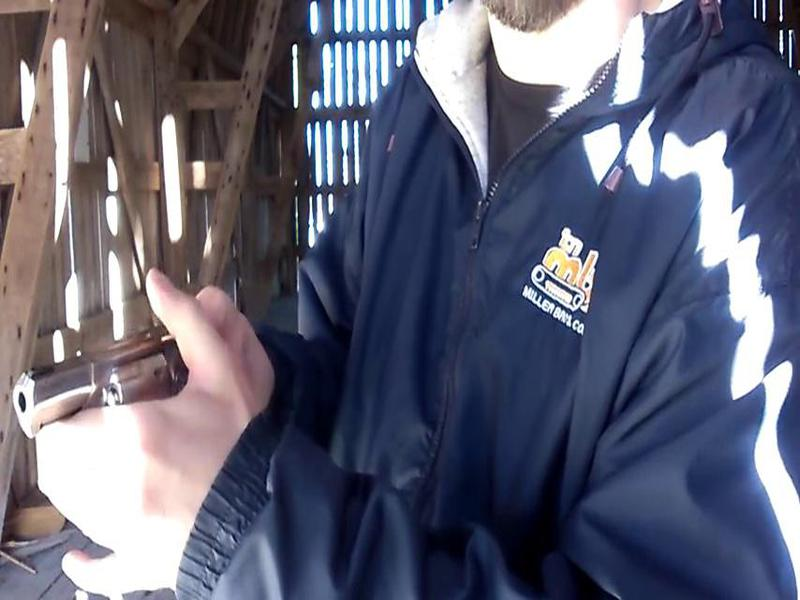Revolver: (8, 324, 209, 464)
